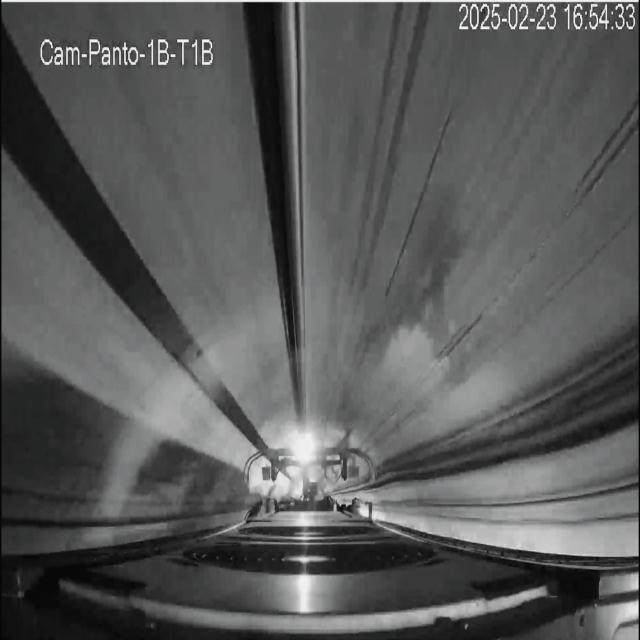Camera Stamp: (39, 34, 218, 69)
Date Stamp: (458, 3, 636, 33)
Sparks: (270, 413, 350, 520)
